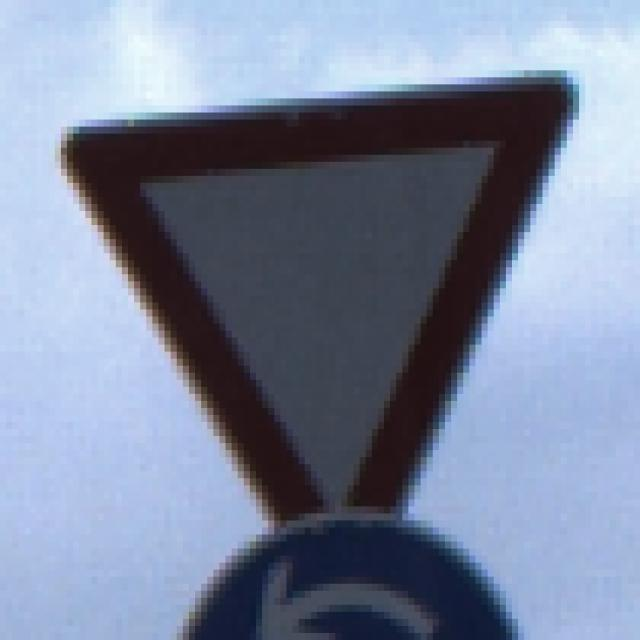Give Way: (56, 57, 586, 585)
